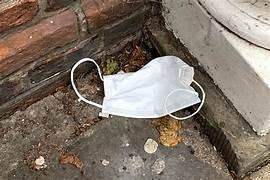Mask: (71, 56, 204, 119)
